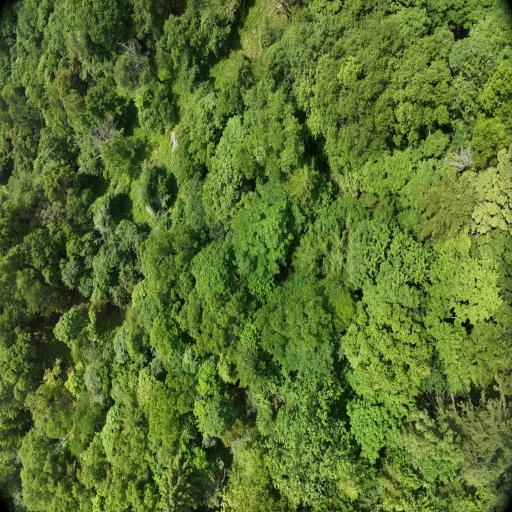dead-tree: (115, 31, 154, 77), (88, 117, 128, 161), (443, 143, 477, 175), (208, 460, 232, 493), (261, 0, 294, 23), (45, 429, 72, 456), (93, 53, 112, 76), (208, 352, 222, 368), (275, 393, 284, 405)
sick-tree: (66, 363, 76, 376)
